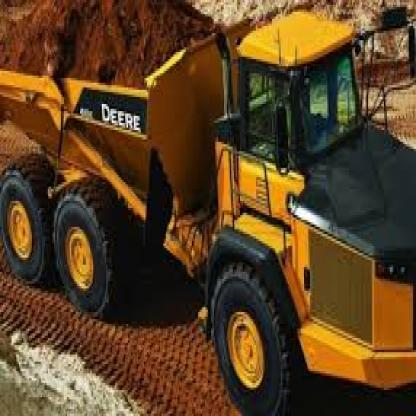dump_truck: (5, 0, 414, 409)
